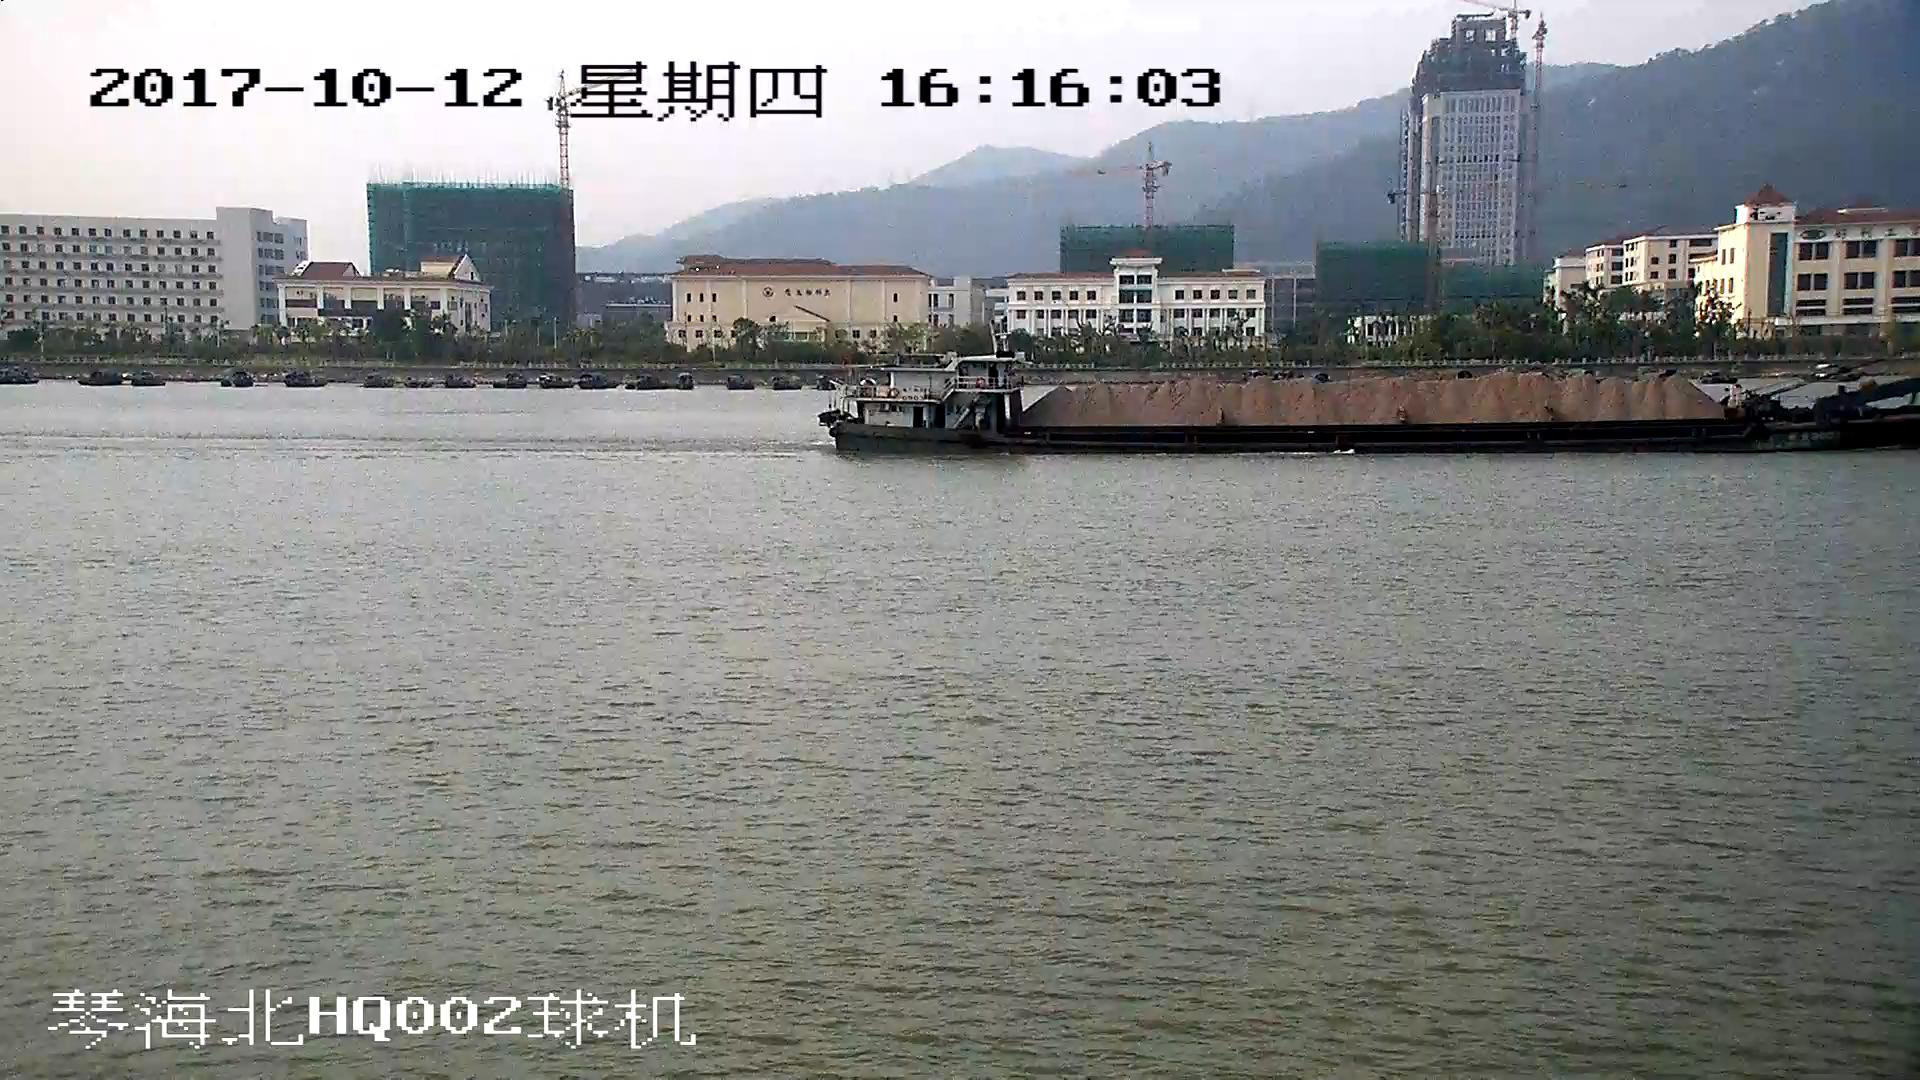ore carrier: (828, 358, 1920, 453)
